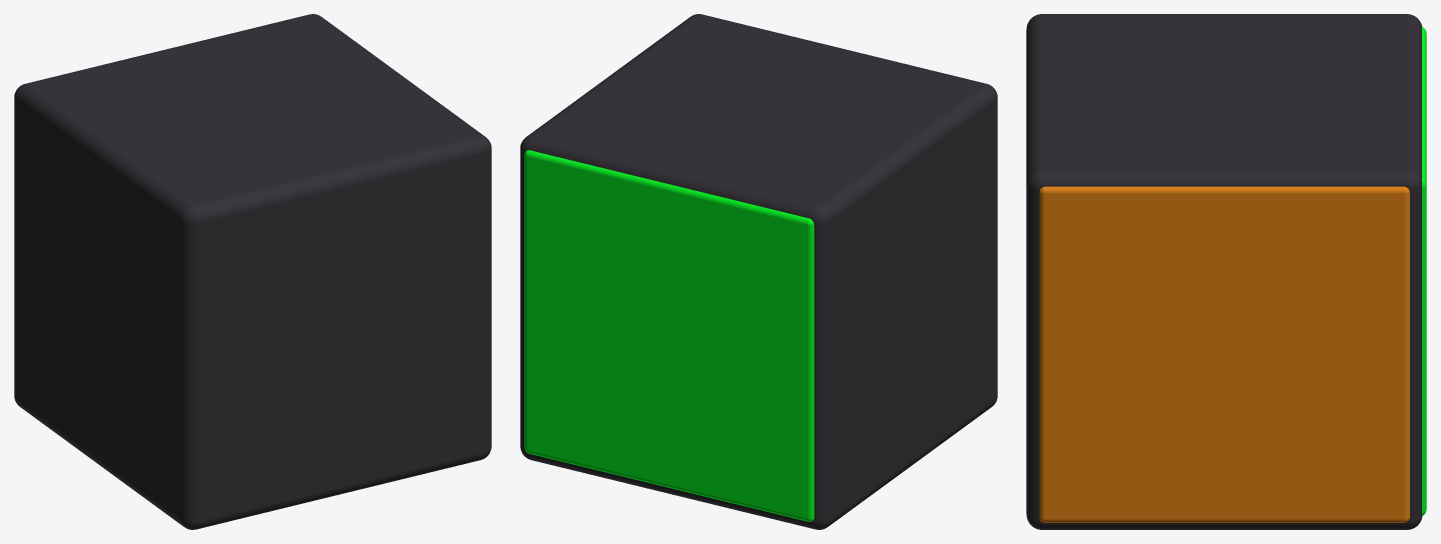
The model's file is ogEdge.obj.
3 views of the same model, side by side, from view 1: azimuth 30°, elevation 25°; view 2: azimuth 150°, elevation 25°; view 3: azimuth 270°, elevation 25° (orthographic). The views are drawn at different scales.
Parts seen in each view (by area): view 1: 000_Base; view 2: 000_Base, 002_green; view 3: 001_orange, 000_Base, 002_green.
Boxes of the visible parts, left/top/right/bottom form: 000_Base: left=14, top=14, right=491, bottom=529; 000_Base: left=520, top=14, right=997, bottom=529; 002_green: left=524, top=150, right=814, bottom=521; 001_orange: left=1039, top=186, right=1409, bottom=522; 000_Base: left=1026, top=14, right=1422, bottom=529; 002_green: left=1422, top=27, right=1426, bottom=515.
Size of the model in its own units: 101 by 100 by 101.
